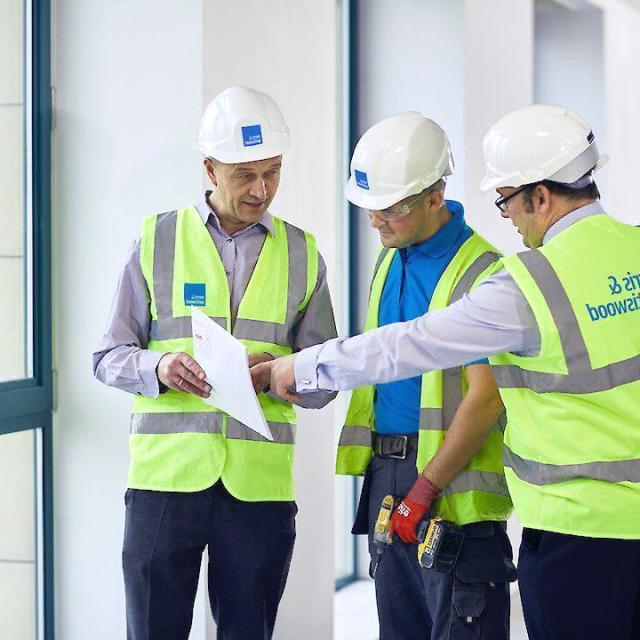face_nomask: (489, 174, 579, 252), (203, 158, 287, 223), (367, 189, 438, 255)
hand_glove: (378, 466, 449, 546)
hand_noglove: (246, 343, 299, 411), (157, 344, 215, 404)
head_helmet: (472, 101, 599, 192), (180, 80, 302, 166), (340, 110, 442, 206)
person: (95, 77, 323, 639), (477, 106, 639, 626), (343, 118, 497, 619)
vest: (116, 204, 322, 498), (311, 258, 500, 559), (489, 207, 639, 539)
